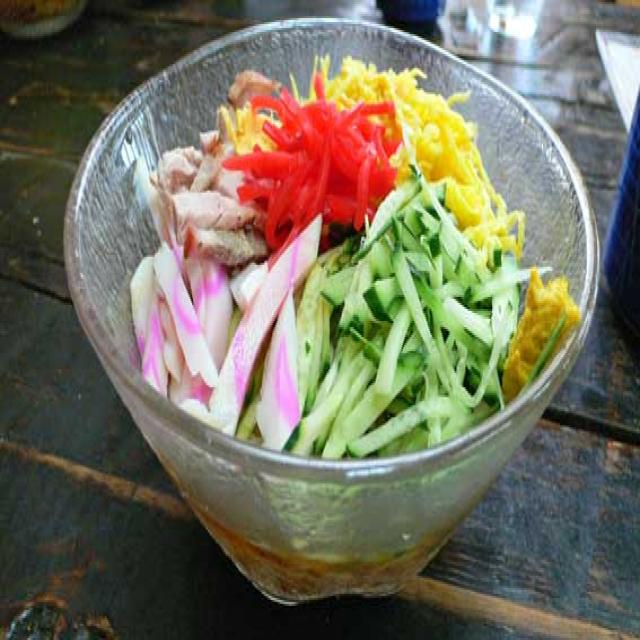面条主食: (56, 0, 621, 528)
